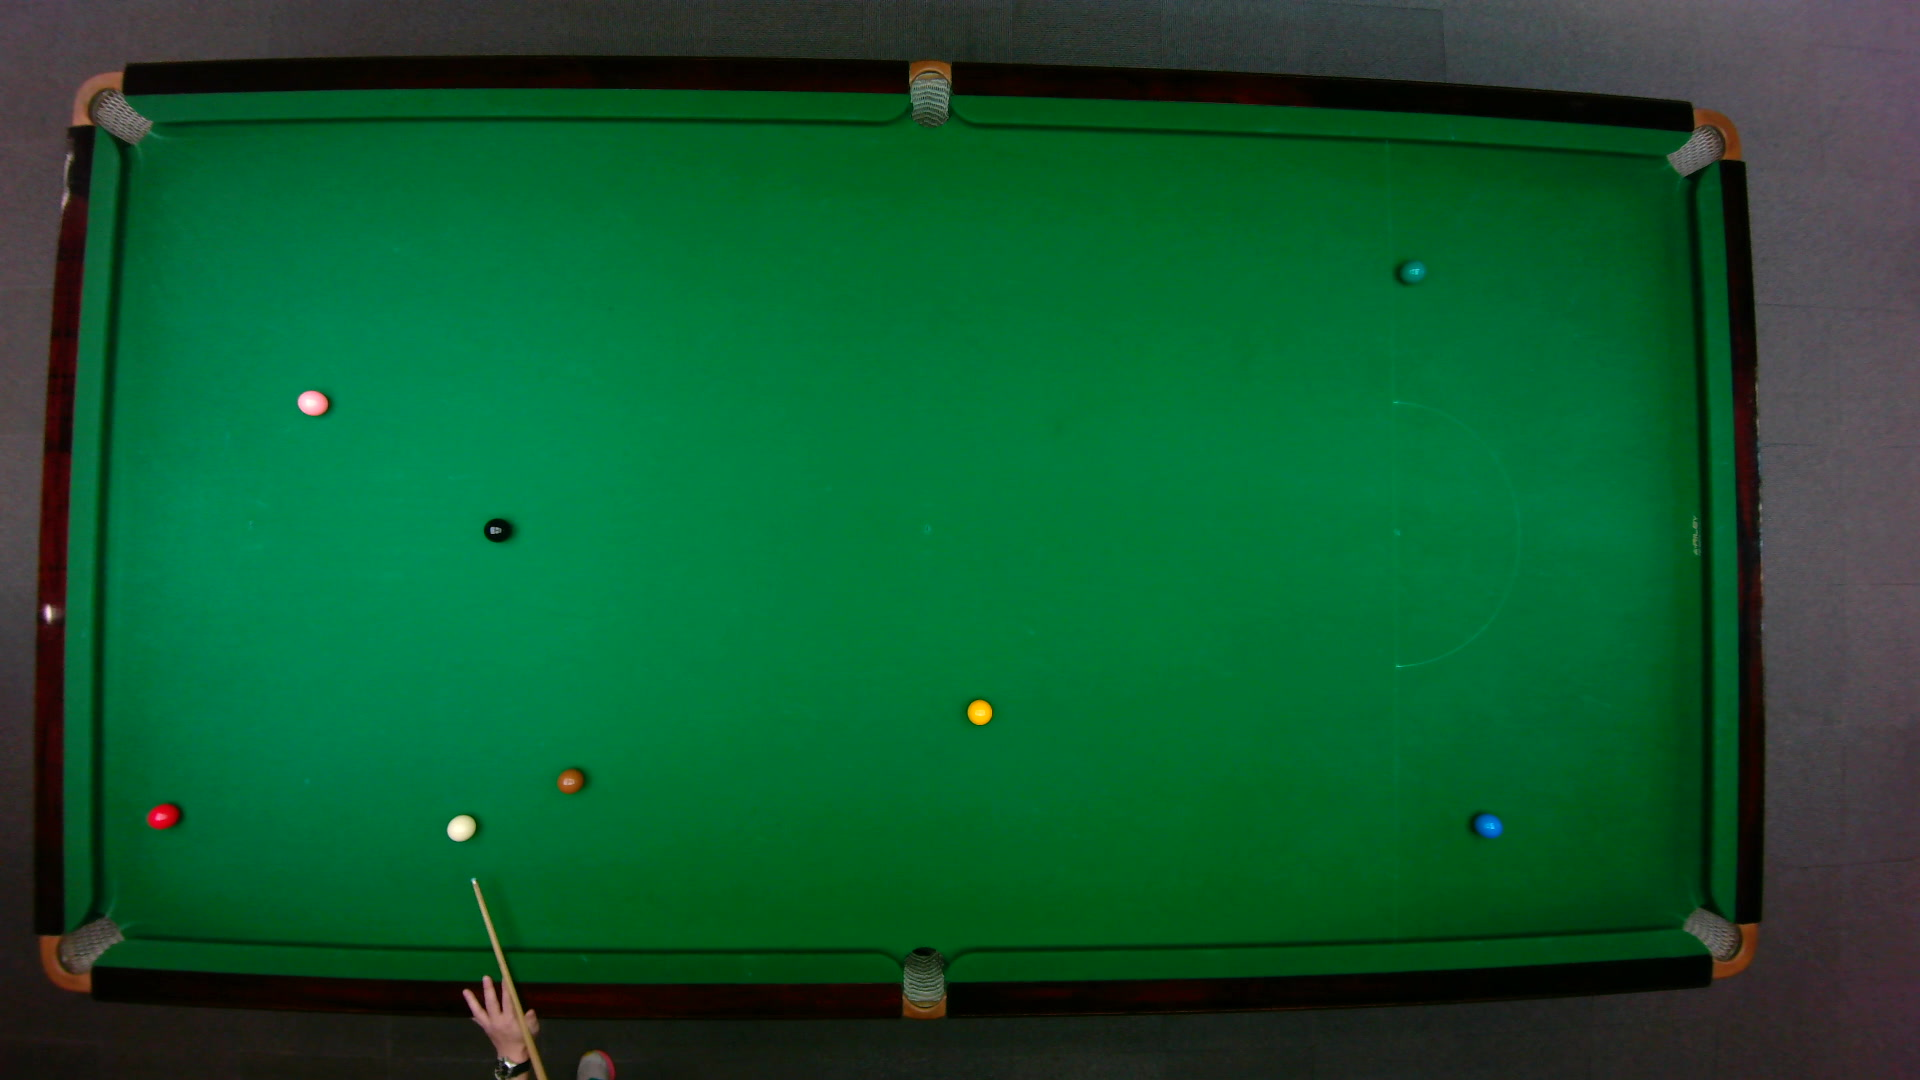bag: (37, 913, 125, 993), (69, 69, 152, 145), (1679, 905, 1756, 978), (1663, 107, 1741, 177), (901, 944, 944, 1021), (909, 57, 949, 128)
black: (483, 516, 512, 542)
blue: (1472, 811, 1503, 837)
brown: (555, 766, 585, 794)
cue: (468, 876, 549, 1080)
green: (1396, 258, 1427, 284)
pink: (294, 386, 328, 415)
red: (144, 800, 179, 829)
white: (444, 812, 477, 841)
yellow: (964, 696, 993, 727)
zone: (1390, 398, 1520, 669)
